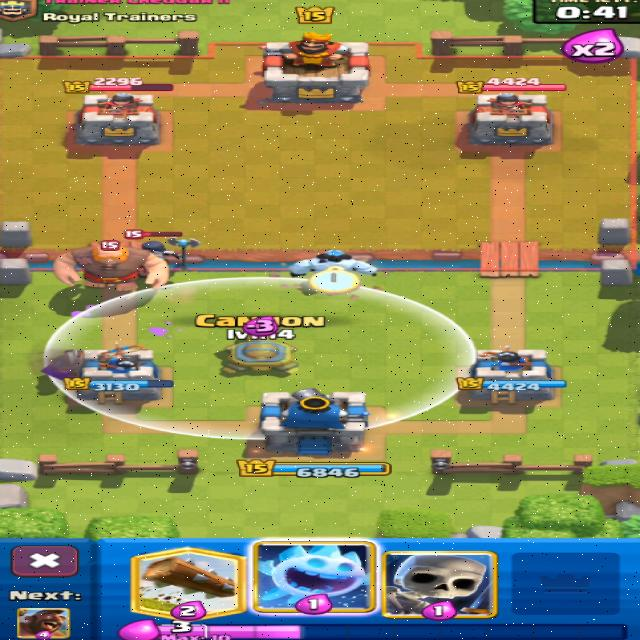Enemy-Giant: (54, 243, 165, 293)
Enemy-KingTower: (262, 32, 369, 104)
Enemy-NightWitch: (125, 230, 199, 270)
Enemy-PrincessTower: (74, 93, 159, 148), (469, 93, 551, 145)
Player-IceGolem: (291, 250, 376, 276)
Player-KingTower-Activated: (260, 388, 369, 455)
Player-Musketeer-Evo: (42, 350, 82, 377)
Player-PrincessTower: (458, 350, 566, 403), (81, 346, 161, 403)
